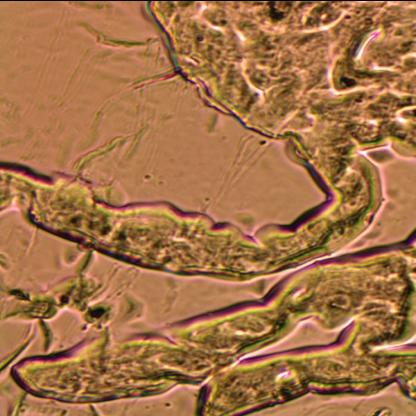Normal: (8, 146, 416, 416), (131, 0, 416, 172)
